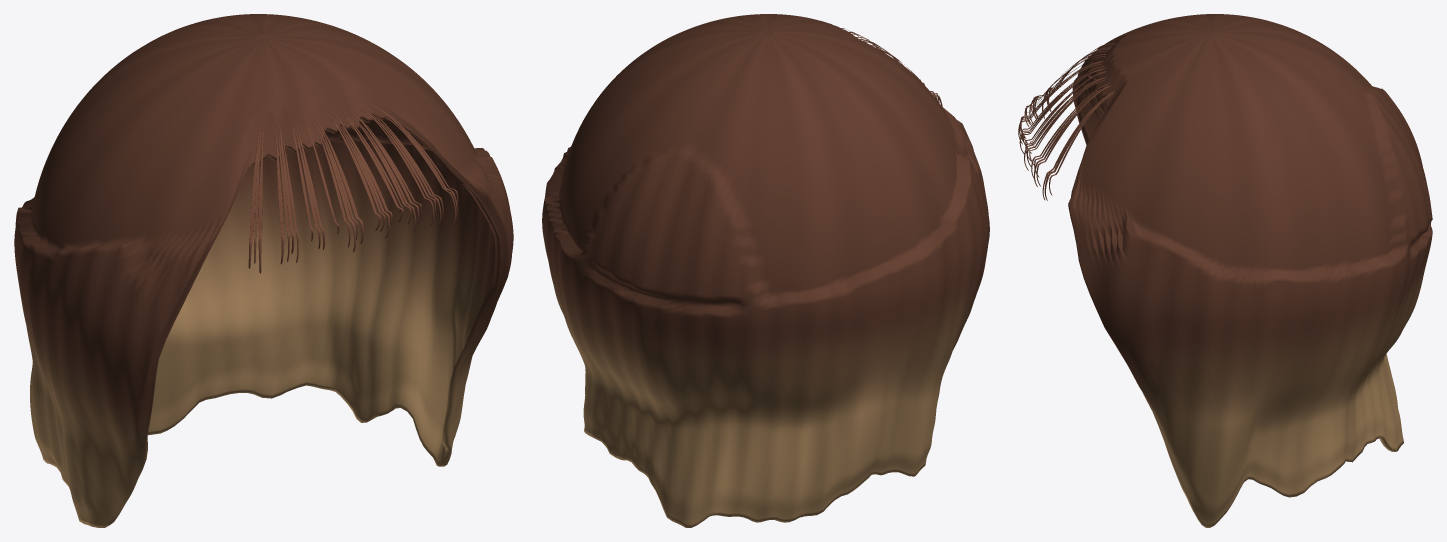
The model's file is side-sweep-cap-ombre.glb.
3 renders of one model, left to right at view 1: azimuth 30°, elevation 25°; view 2: azimuth 150°, elevation 25°; view 3: azimuth 270°, elevation 25°, orthographic. The views are drawn at different scales.
Visible parts, largest first — view 1: Hair / layered lob, Fringe / fine strands; view 2: Hair / layered lob; view 3: Hair / layered lob, Fringe / fine strands.
Boxes of the visible parts, x1=… form: Hair / layered lob: x1=14, y1=14, x2=513, y2=527; Fringe / fine strands: x1=248, y1=104, x2=458, y2=273; Hair / layered lob: x1=542, y1=14, x2=989, y2=527; Hair / layered lob: x1=1068, y1=14, x2=1432, y2=527; Fringe / fine strands: x1=1018, y1=43, x2=1115, y2=200.
Bounding box in the file's own units: 0.8388 × 0.8705 × 0.7815.
